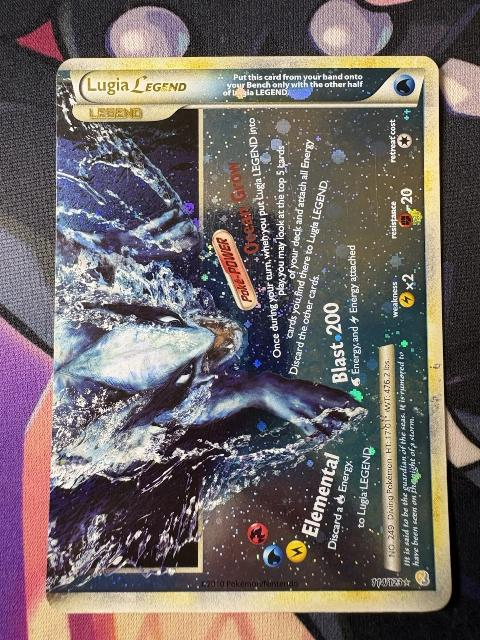Card: (42, 51, 458, 619)
Name: (80, 74, 194, 103)
